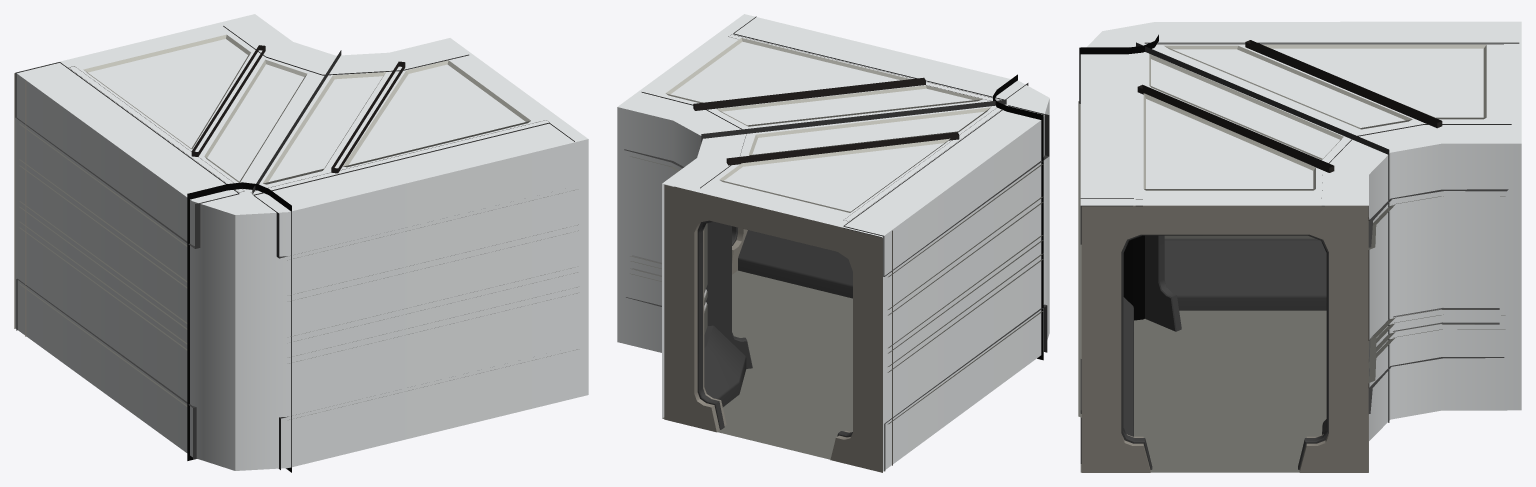
The model's file is Corridor_90Right.fbx.
3 renders of one model, left to right at view 1: azimuth 30°, elevation 25°; view 2: azimuth 150°, elevation 25°; view 3: azimuth 270°, elevation 25°, orthographic. The views are drawn at different scales.
Parts seen in each view (by area): view 1: Corridor_90Right; view 2: Corridor_90Right; view 3: Corridor_90Right, Corridor_90RightLights.
Part boxes in pixels (bbox=[...]): Corridor_90Right: bbox=[14, 14, 588, 472]; Corridor_90Right: bbox=[617, 14, 1049, 472]; Corridor_90Right: bbox=[1078, 21, 1521, 472]; Corridor_90RightLights: bbox=[1368, 308, 1499, 376].
Size of the model in its own units: 40.39 by 28.36 by 40.89.
